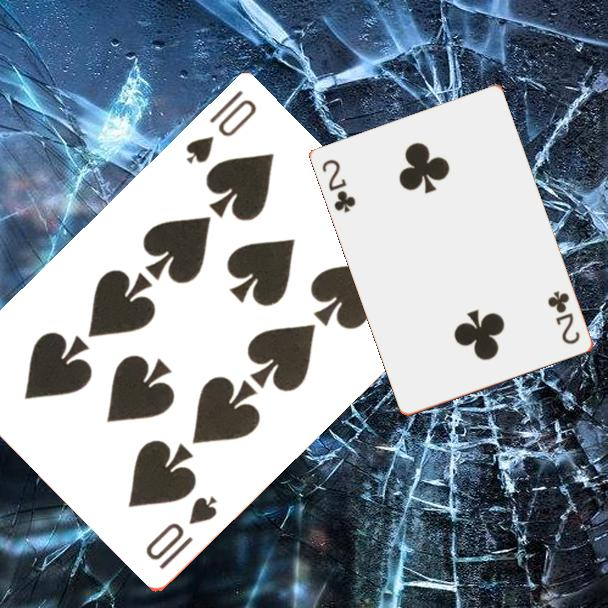c02: (319, 156, 359, 216), (545, 287, 583, 347)
s10: (142, 493, 220, 574), (182, 87, 260, 168)
